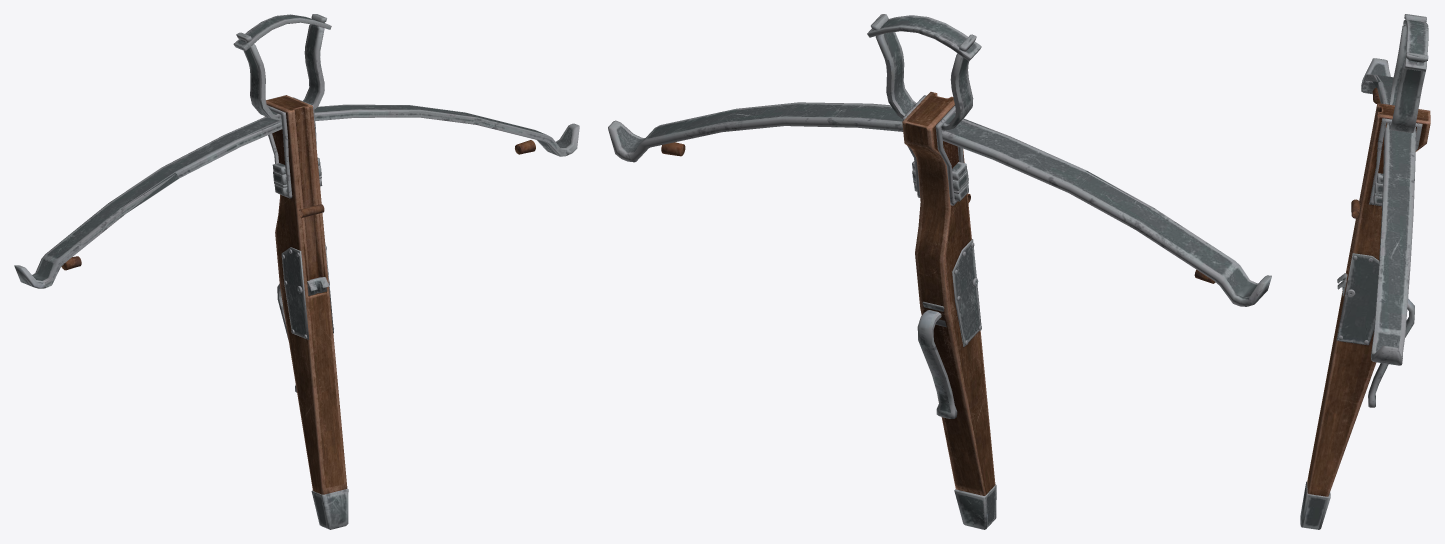
File: crossbow.glb
3 renders of one model, left to right at view 1: azimuth 30°, elevation 25°; view 2: azimuth 150°, elevation 25°; view 3: azimuth 270°, elevation 25°, orthographic. The views are drawn at different scales.
Parts seen in each view (by area): view 1: weapon; view 2: weapon; view 3: weapon.
Boxes of the visible parts, box(x1,y1,x2,y2) form: weapon: box(14, 14, 579, 529); weapon: box(608, 14, 1271, 529); weapon: box(1300, 14, 1430, 529).
Bounding box in the file's own units: 0.8741 × 0.7 × 0.1662.
3 materials, 3 textured.
